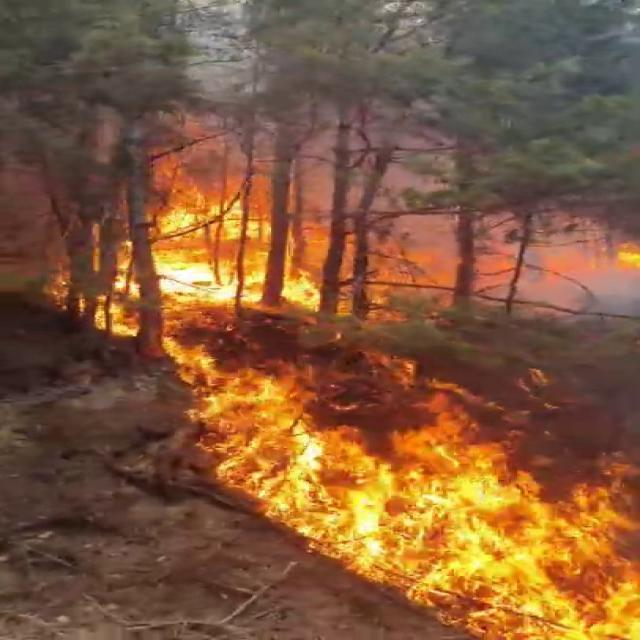Fire: (171, 346, 633, 640), (51, 129, 442, 343)
